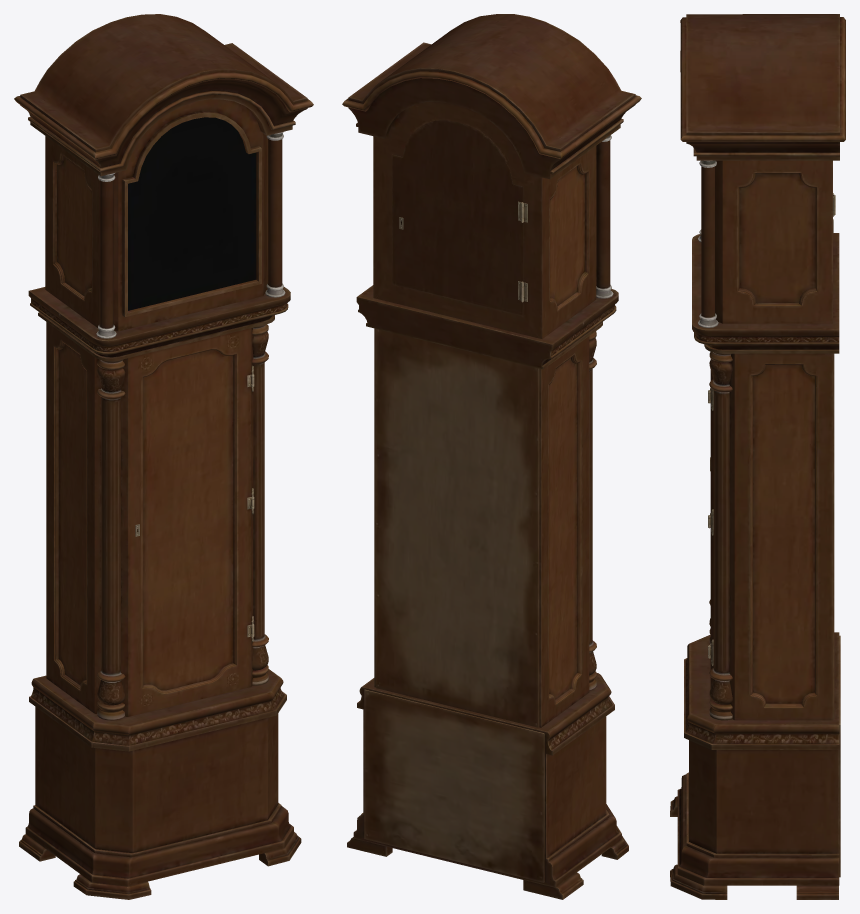
The model's file is vintage-grandfather-clock-01.glb.
3 views of the same model, side by side, from view 1: azimuth 30°, elevation 25°; view 2: azimuth 150°, elevation 25°; view 3: azimuth 270°, elevation 25° (orthographic). The views are drawn at different scales.
Visible parts, largest first — view 1: vintage_grandfather_clock_01_body; view 2: vintage_grandfather_clock_01_body; view 3: vintage_grandfather_clock_01_body.
Boxes of the visible parts, x1=… form: vintage_grandfather_clock_01_body: x1=14, y1=14, x2=313, y2=899; vintage_grandfather_clock_01_body: x1=342, y1=14, x2=641, y2=899; vintage_grandfather_clock_01_body: x1=670, y1=14, x2=845, y2=899.
Size of the model in its own units: 0.6255 by 2.19 by 0.4265.
2 materials, 2 textured.
